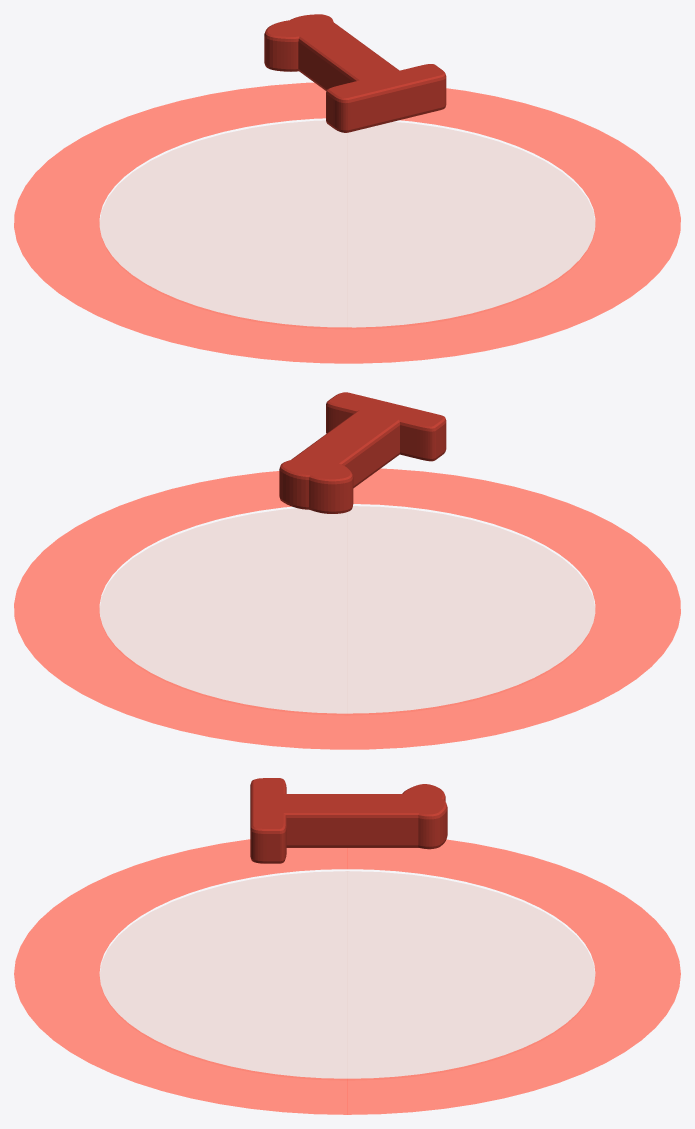
Rendered from pad.glb.
3 renders of one model, top to bottom at view 1: azimuth 30°, elevation 25°; view 2: azimuth 150°, elevation 25°; view 3: azimuth 270°, elevation 25°, orthographic.
Parts seen in each view (by area): view 1: Plate, Ring, DigitOneMesh; view 2: Plate, Ring, DigitOneMesh; view 3: Plate, Ring, DigitOneMesh.
Boxes of the visible parts, left/top/right/bottom form: Plate: left=99, top=120, right=595, bottom=328; Ring: left=14, top=82, right=680, bottom=363; DigitOneMesh: left=264, top=14, right=446, bottom=132; Plate: left=99, top=506, right=595, bottom=714; Ring: left=14, top=468, right=680, bottom=749; DigitOneMesh: left=279, top=392, right=446, bottom=513; Plate: left=99, top=871, right=595, bottom=1078; Ring: left=14, top=839, right=680, bottom=1114; DigitOneMesh: left=250, top=778, right=447, bottom=863.
Bounding box in the file's own units: 1.56 × 0.4449 × 1.56.
